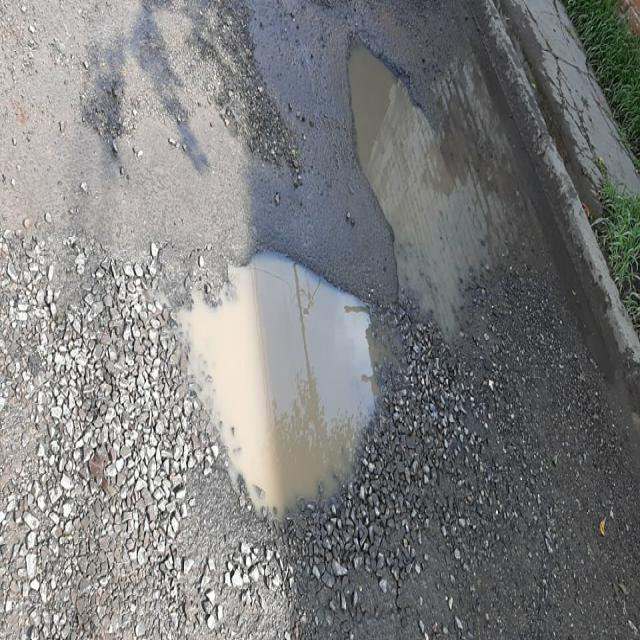Pothole: (132, 217, 379, 537), (329, 20, 542, 346)
